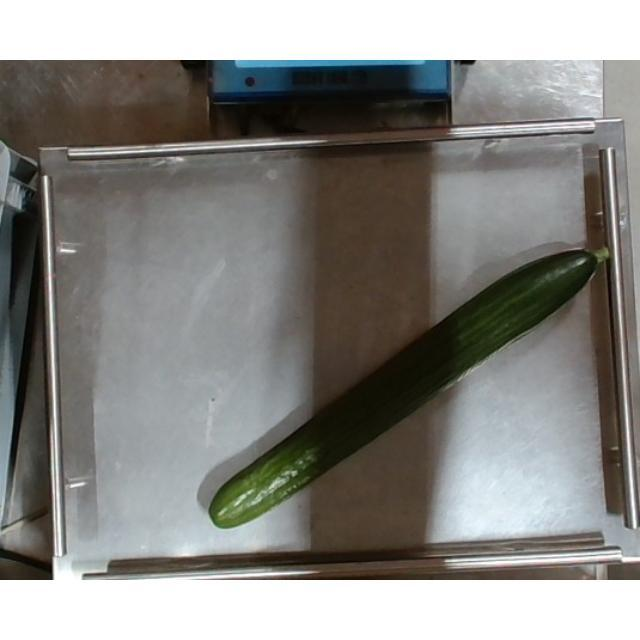cucumber: (204, 242, 614, 532)
